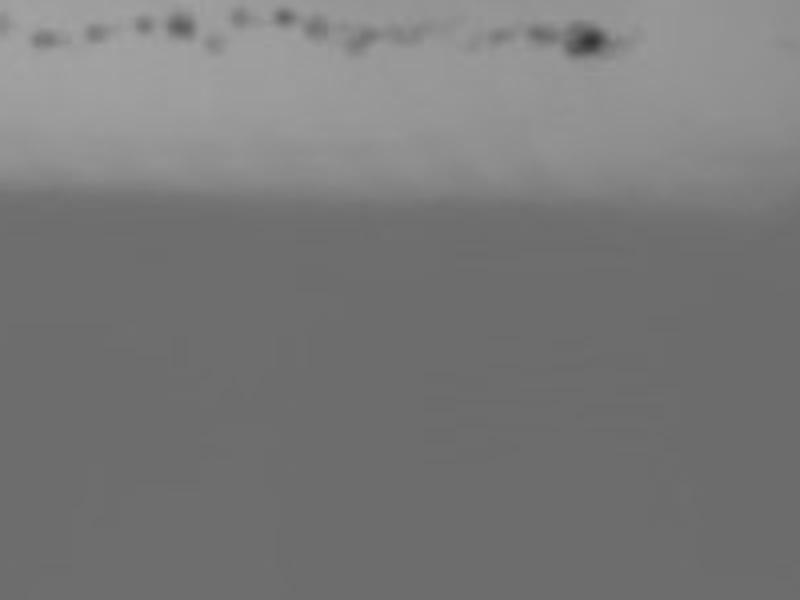defect: (563, 20, 602, 55), (302, 11, 331, 47), (27, 28, 71, 49), (339, 35, 368, 61), (527, 18, 558, 42), (168, 13, 195, 38), (403, 20, 427, 47), (82, 21, 110, 43), (487, 25, 513, 42), (205, 34, 227, 54), (382, 21, 402, 43), (133, 13, 154, 33), (229, 7, 249, 27), (273, 7, 295, 25), (363, 27, 379, 47), (1, 12, 11, 37)
